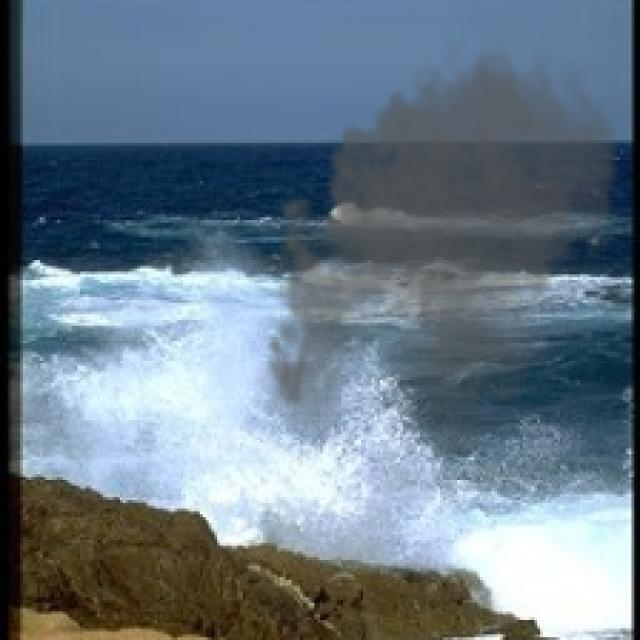Smoke: (254, 28, 626, 454)
